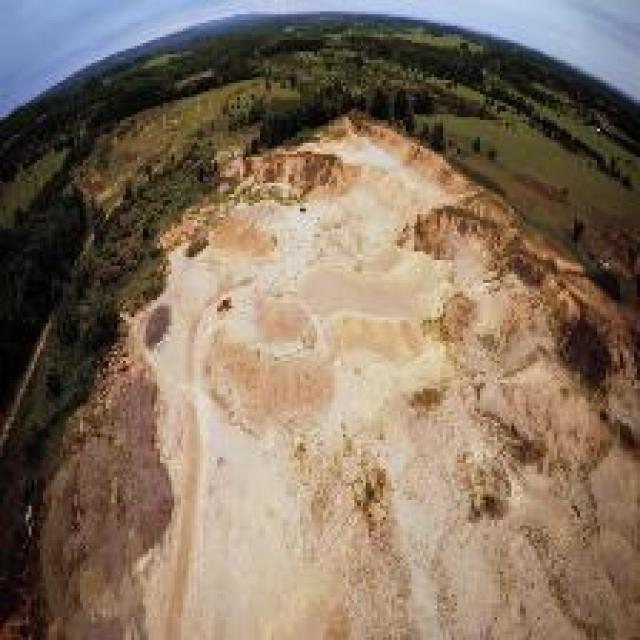other: (161, 155, 620, 599)
